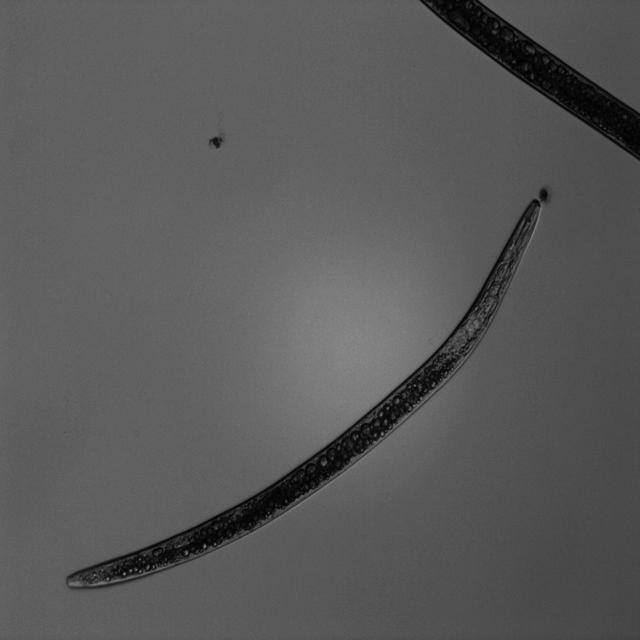Pratylenchus: (59, 196, 546, 593)
